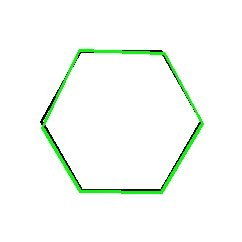line_segment: (40, 49, 203, 193)
